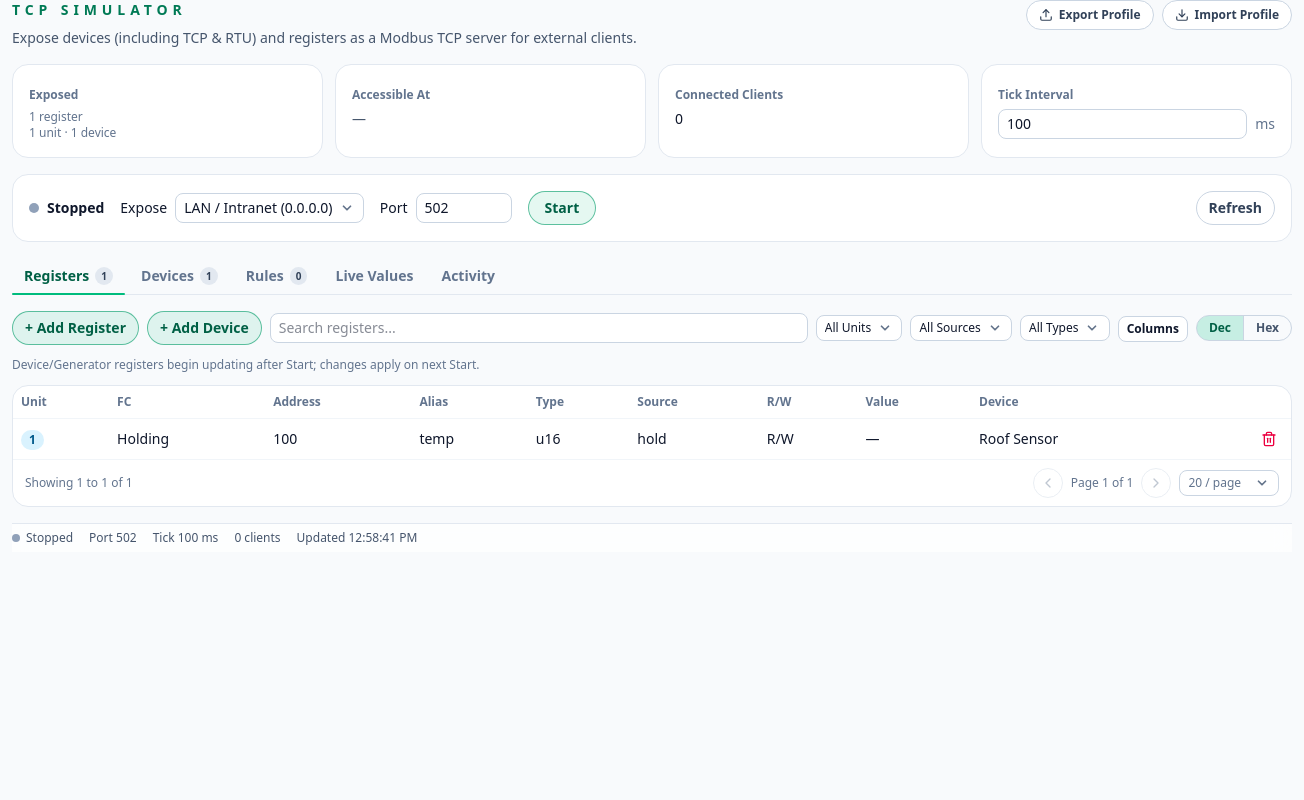
Test: TcpSimulatorPage (tabbed shell) › opens the inspector when a register row is selected
Click the text "temp": (437, 438) [411,418,528,459]
(page scrolled)
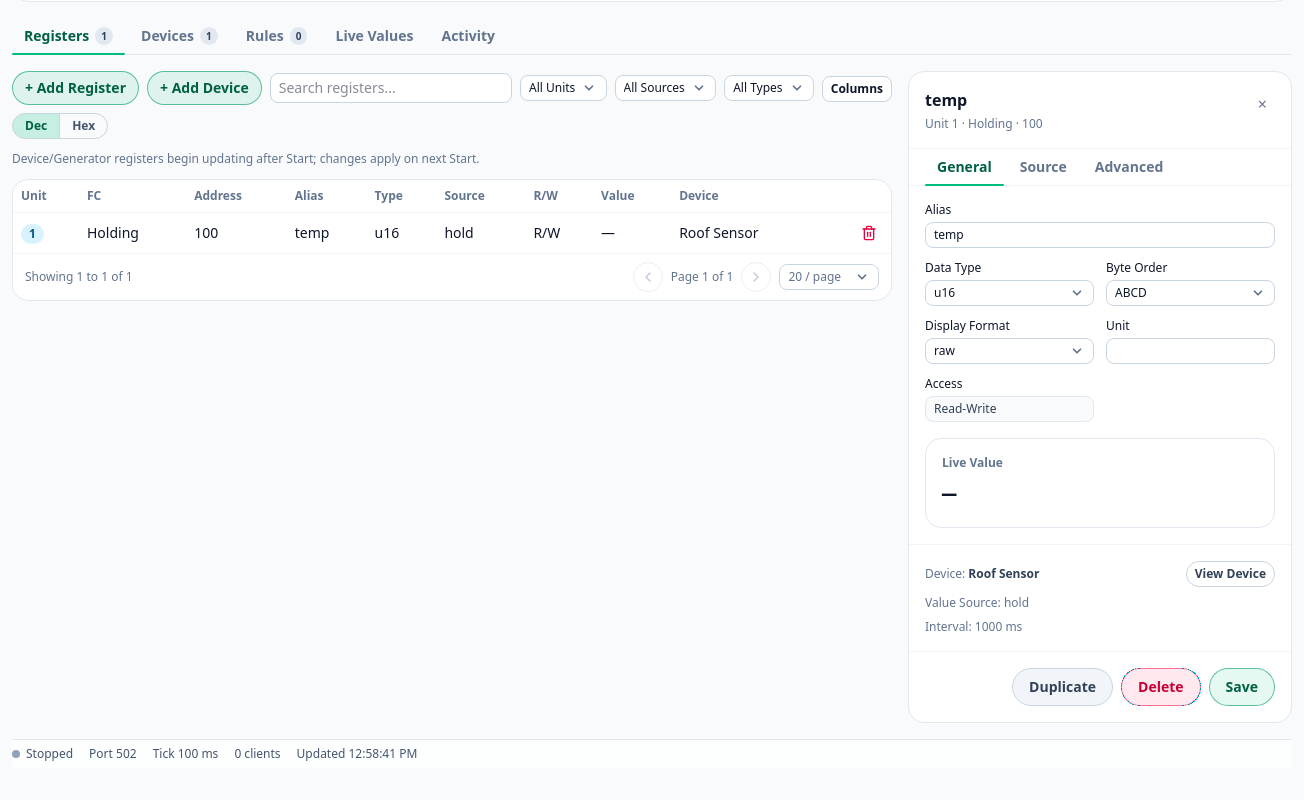
Result: the button "Save" is shown at [1209,668,1275,706]
